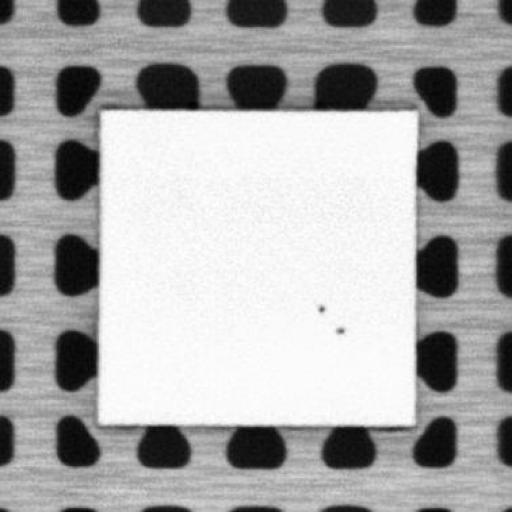DIE_INK: (332, 322, 344, 335), (314, 301, 328, 312)
